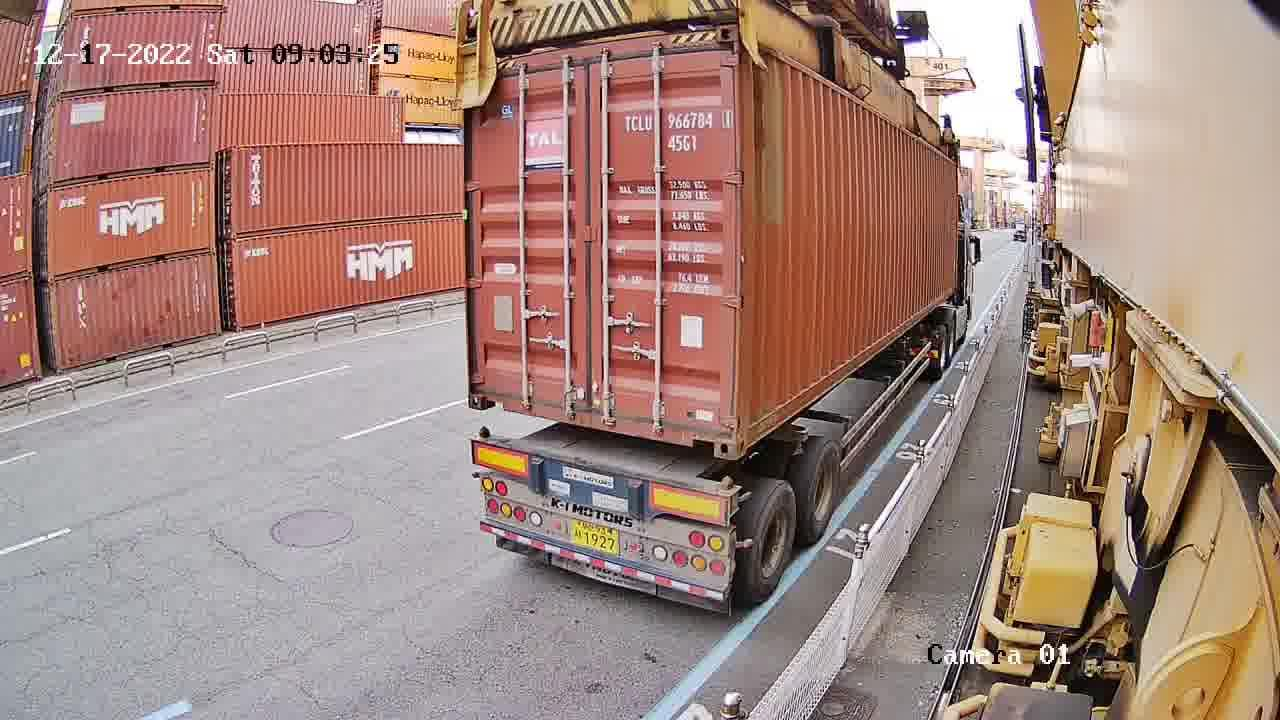Chassis: (471, 439, 733, 528)
Container: (469, 375, 736, 463)
Hole_L: (470, 375, 505, 412)
Hole_R: (698, 417, 736, 461)
Tire: (744, 483, 795, 600), (805, 441, 844, 543)
